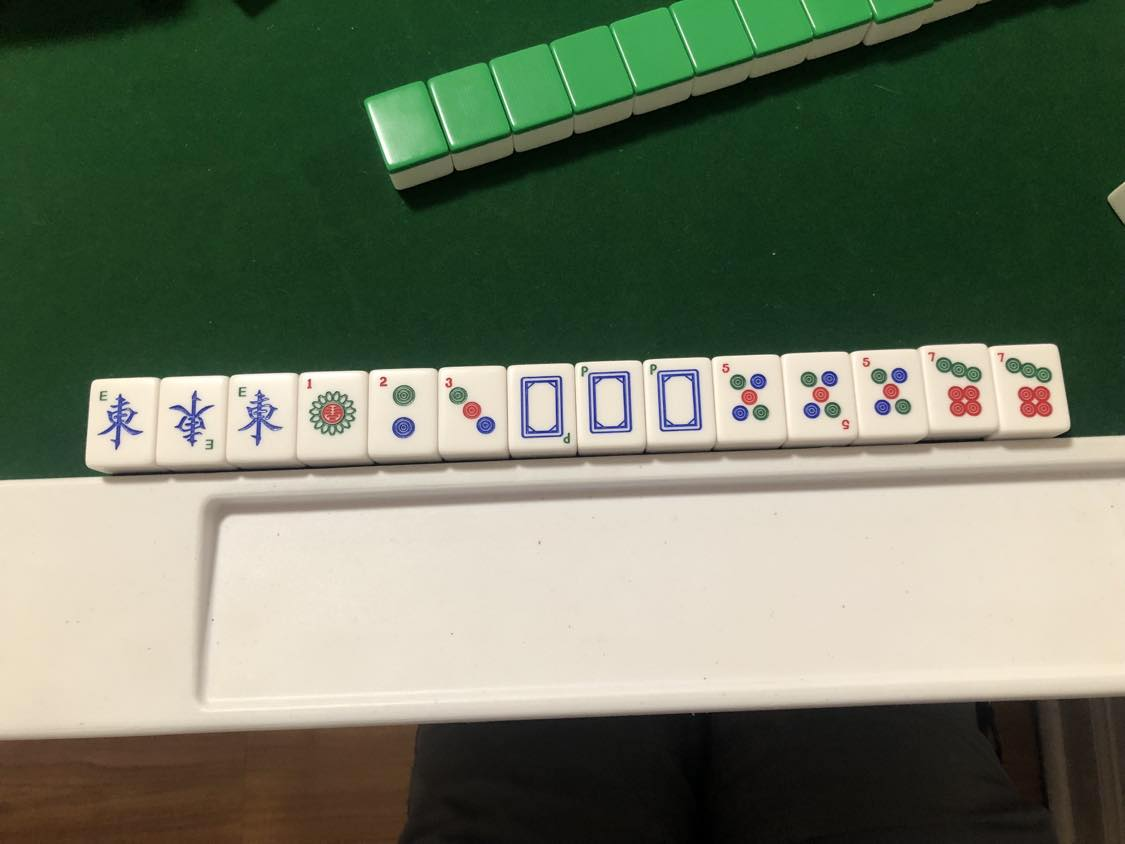circle-five: (719, 360, 780, 435), (860, 353, 916, 423), (797, 366, 850, 434)
circle-one: (298, 375, 360, 447)
circle-seven: (998, 348, 1057, 426), (928, 348, 989, 422)
circle-three: (442, 369, 501, 446)
circle-two: (375, 373, 428, 445)
honor-blue_dragon: (512, 367, 572, 450), (648, 363, 709, 440), (578, 363, 636, 439)
honor-east_wind: (165, 381, 222, 455), (94, 383, 143, 463), (234, 379, 285, 451)
